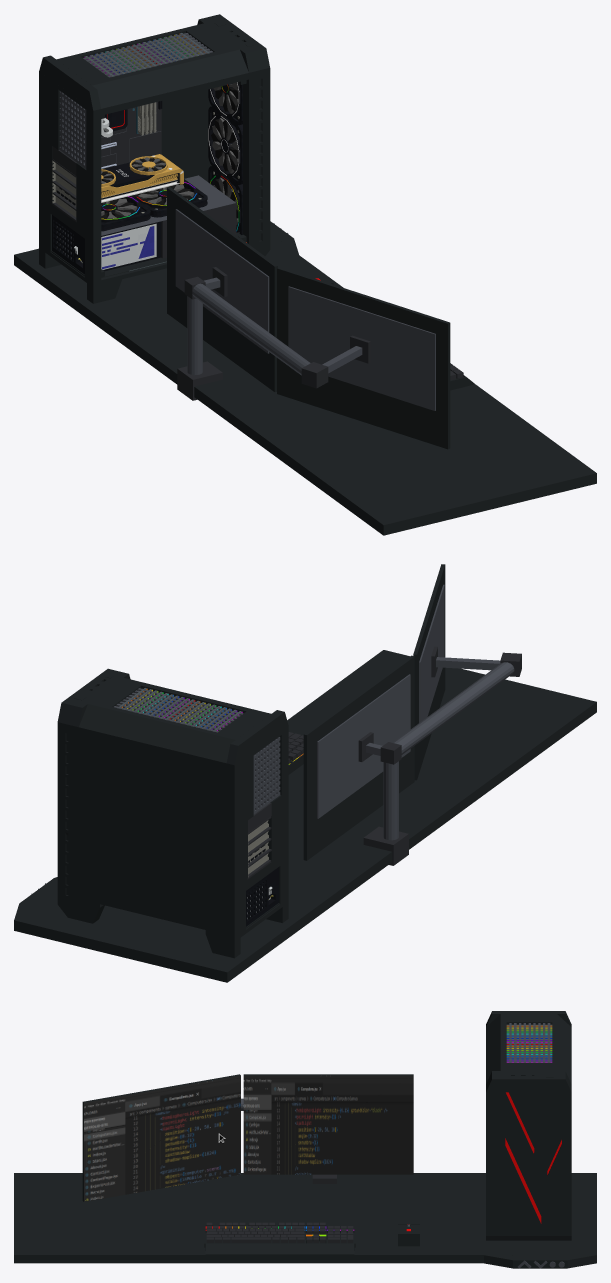
3 views of the same model, one above another, from view 1: azimuth 30°, elevation 25°; view 2: azimuth 150°, elevation 25°; view 3: azimuth 270°, elevation 25° (orthographic). The views are drawn at different scales.
Visible parts, largest first — view 1: cube_20, object 3046, object 3045, monitor orta_165, monitor orta_166, cube_295, cube_359, cube_317, cube_1542, cube_318, cube_228, cube_299 (+10 smaller); view 2: cube_20, cube_286, monitor orta_165, monitor orta_166, cube_287, cube_270, object 3045, cube_301, object 3046, cube_250, cube_299, cube_318 (+8 smaller); view 3: cube_20, monitor orta_165, object 3045, cube_228, cube_245, Object_316, cube_254, cube_246, cube_259, cube_249, cube_255, cube_250 (+11 smaller).
Part boxes in pixels (left/top/right/bottom): cube_20: left=14, top=234, right=596, bottom=535; object 3046: left=288, top=286, right=435, bottom=410; object 3045: left=277, top=267, right=450, bottom=449; monitor orta_165: left=167, top=187, right=277, bottom=391; monitor orta_166: left=175, top=209, right=269, bottom=353; cube_295: left=92, top=49, right=248, bottom=108; cube_359: left=161, top=89, right=211, bottom=181; cube_317: left=243, top=70, right=259, bottom=251; cube_1542: left=101, top=102, right=161, bottom=169; cube_318: left=86, top=106, right=101, bottom=237; cube_228: left=261, top=68, right=270, bottom=251; cube_299: left=43, top=55, right=96, bottom=107; cube_20: left=14, top=650, right=596, bottom=982; cube_286: left=78, top=727, right=226, bottom=934; monitor orta_165: left=303, top=655, right=414, bottom=860; monitor orta_166: left=317, top=674, right=410, bottom=818; cube_287: left=79, top=704, right=234, bottom=762; cube_270: left=68, top=725, right=78, bottom=920; object 3045: left=413, top=564, right=445, bottom=780; cube_301: left=226, top=760, right=241, bottom=892; object 3046: left=419, top=584, right=444, bottom=722; cube_250: left=57, top=722, right=66, bottom=859; cube_299: left=231, top=710, right=284, bottom=761; cube_318: left=279, top=726, right=288, bottom=857; cube_20: left=14, top=1173, right=596, bottom=1263; monitor orta_165: left=243, top=1074, right=413, bottom=1174; object 3045: left=82, top=1074, right=240, bottom=1201; cube_228: left=486, top=1092, right=505, bottom=1235; cube_245: left=488, top=1092, right=567, bottom=1232; Object_316: left=205, top=1243, right=354, bottom=1254; cube_254: left=534, top=1092, right=547, bottom=1198; cube_246: left=495, top=1145, right=542, bottom=1234; cube_259: left=492, top=1076, right=565, bottom=1092; cube_249: left=541, top=1189, right=571, bottom=1235; cube_255: left=508, top=1083, right=556, bottom=1147; cube_250: left=562, top=1092, right=571, bottom=1198.
Size of the model in its own units: 0.7739 by 0.7202 by 2.15.
22 materials, 14 textured.
